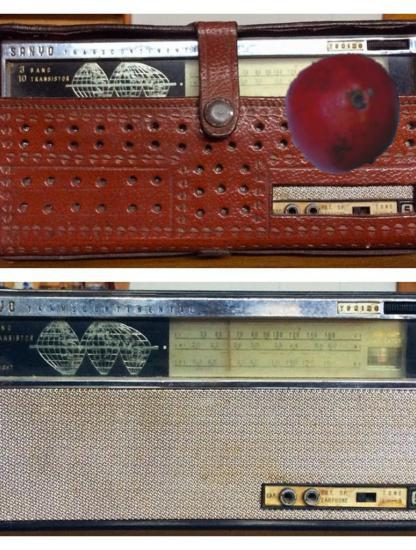Pomegranate: (284, 52, 403, 171)
